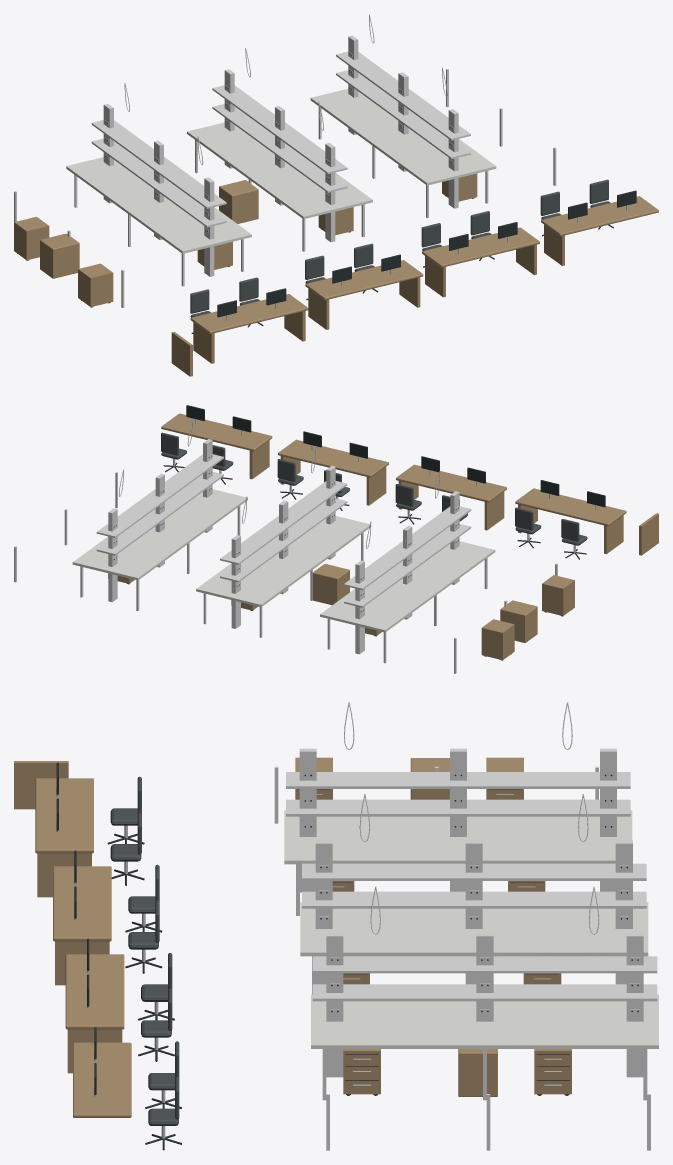
File: SM_L2_Furniture_Solid_15e183064d_0.fbx
3 views of the same model, one above another, from view 1: azimuth 30°, elevation 25°; view 2: azimuth 150°, elevation 25°; view 3: azimuth 270°, elevation 25° (orthographic). The views are drawn at different scales.
Visible parts, largest first — view 1: SM_L2_Furniture_Solid_15e183064d_0; view 2: SM_L2_Furniture_Solid_15e183064d_0; view 3: SM_L2_Furniture_Solid_15e183064d_0.
Boxes of the visible parts, box(x1,y1,x2,y2) form: SM_L2_Furniture_Solid_15e183064d_0: box(14, 14, 658, 376); SM_L2_Furniture_Solid_15e183064d_0: box(14, 405, 658, 673); SM_L2_Furniture_Solid_15e183064d_0: box(14, 702, 658, 1150).
Bounding box in the file's own units: 12.48 × 9.45 × 3.12.
